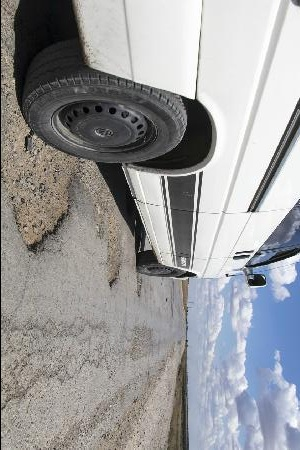pothole: (3, 114, 82, 257), (103, 213, 124, 289), (135, 270, 145, 298)
